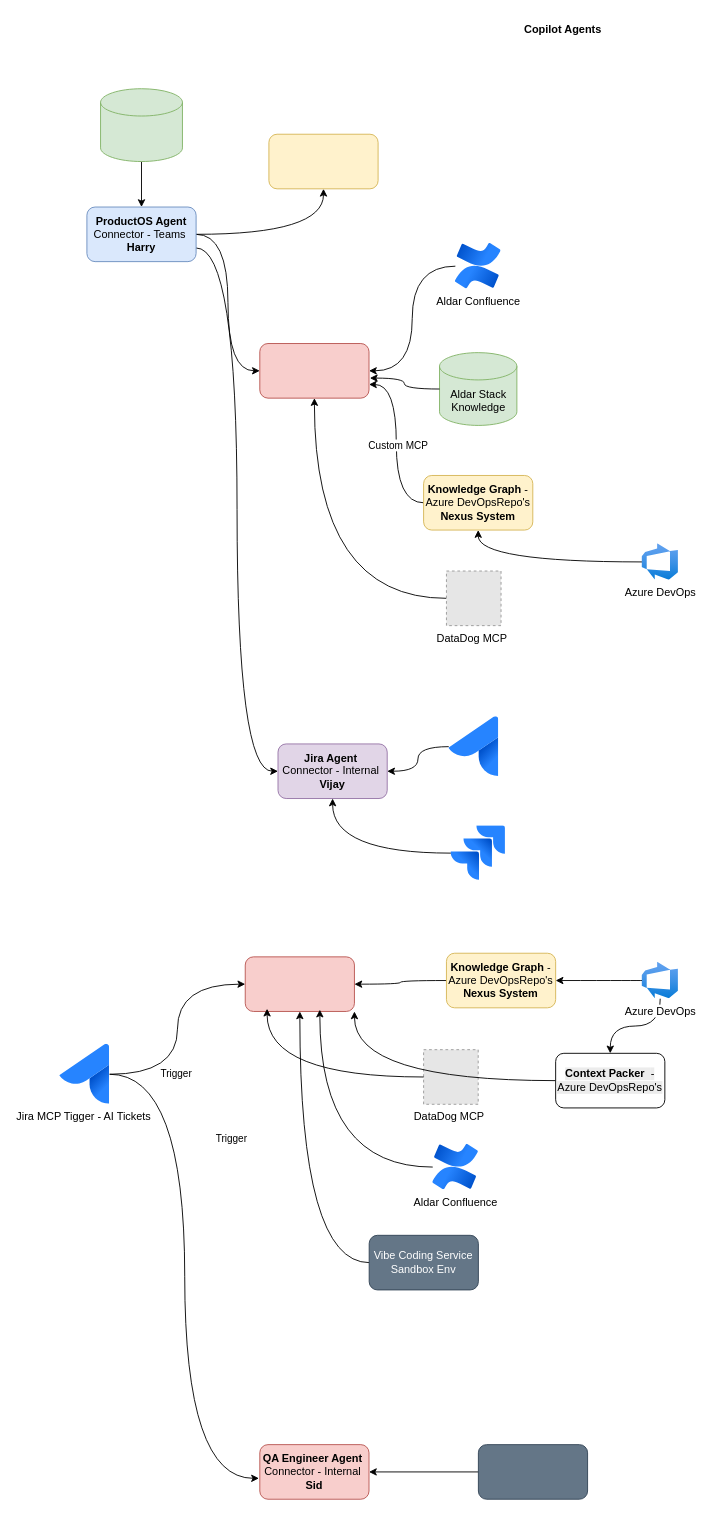
Some shapes in this 711 by 1515 pixel diagram are drawn without their labels. Grey dashed boxes stand in for pictures. The shapes that lost their labels are listed below. From the top down, each one's box as (x1, y1, x2, y2) in pixels, then its label:
(100, 88, 182, 162): Aldar Product Knowledge
(268, 133, 378, 189): ProductPilotAgent Connector - Internal Tony
(259, 343, 369, 398): Enterprise Architecture Agent Connector - Internal Jojo
(448, 716, 498, 776): JiraMCP
(450, 825, 505, 880): Jira APIs
(244, 956, 354, 1011): AI Engineer Agent Connector - Internal Anees
(477, 1444, 588, 1499): Test Case Generator Sandbox Env
